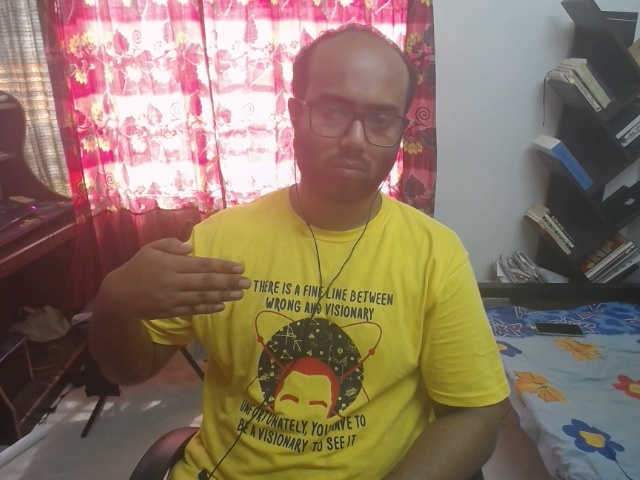north: (83, 215, 277, 348)
